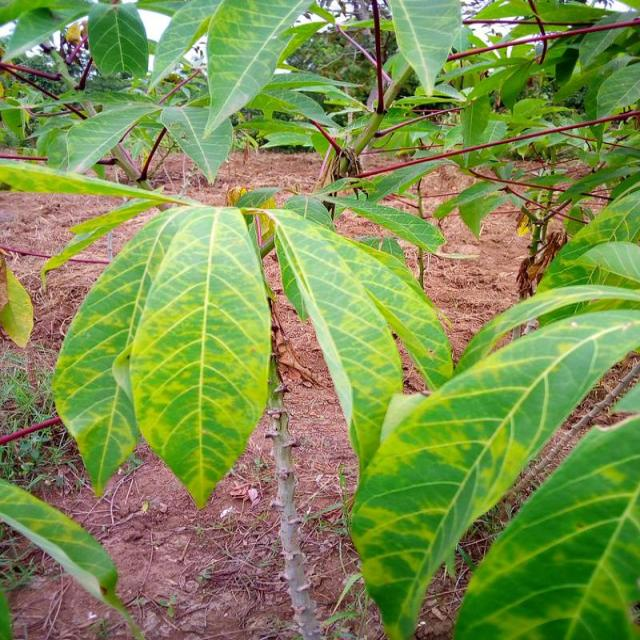cassava leaf: (349, 306, 638, 638), (127, 202, 271, 508), (451, 412, 639, 638), (50, 205, 190, 498), (388, 0, 462, 97)
